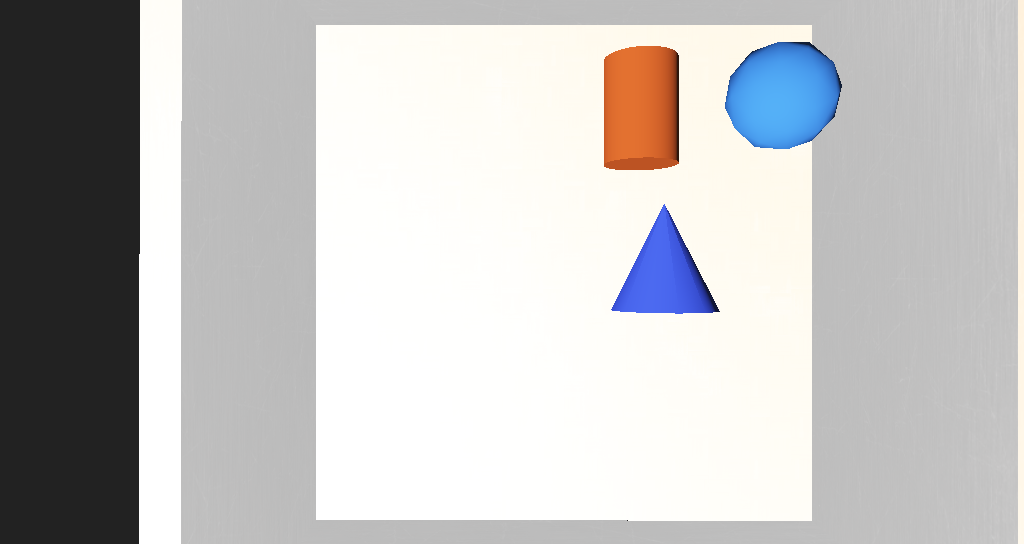cone: (529, 177, 576, 224)
cylinder: (536, 239, 596, 286)
sphere: (603, 174, 664, 217)
